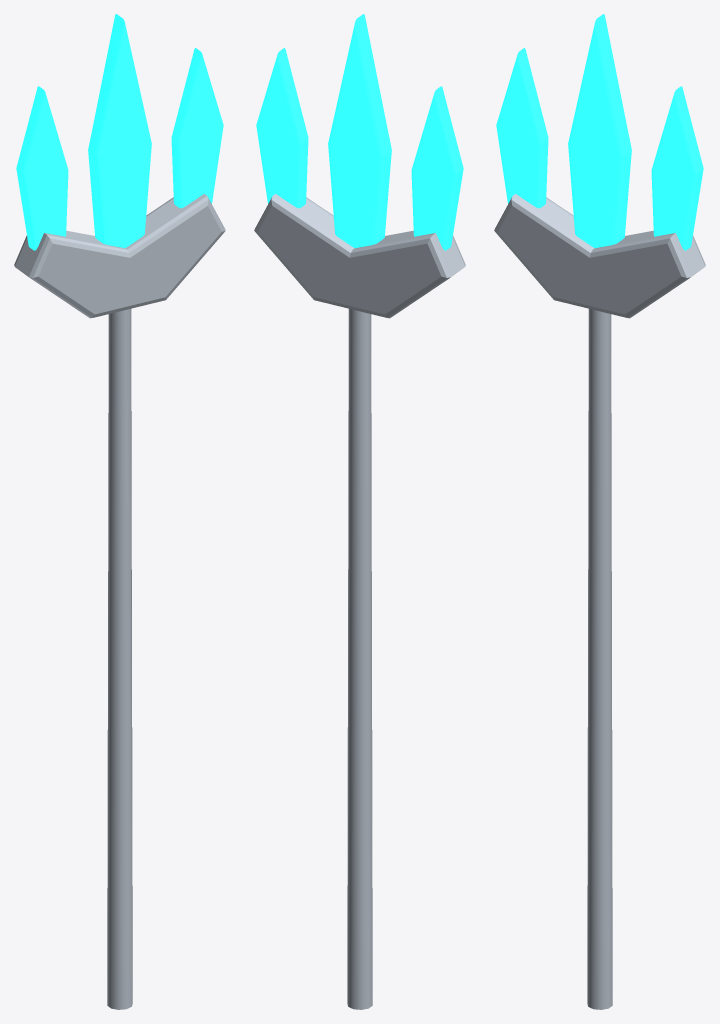
File: weapon_aqua.glb
The picture shows the model from 3 angles, left to right: view 1: azimuth 30°, elevation 25°; view 2: azimuth 150°, elevation 25°; view 3: azimuth 330°, elevation 25°; orthographic projection.
Parts seen in each view (by area): view 1: TridentShaft, TridentCrosshead, CenterProng, RightProng, LeftProng; view 2: TridentShaft, TridentCrosshead, CenterProng, RightProng, LeftProng; view 3: TridentShaft, TridentCrosshead, CenterProng, LeftProng, RightProng.
Part boxes in pixels (<box>): TridentShaft: <box>107,309,132,1009</box>; TridentCrosshead: <box>14,194,225,318</box>; CenterProng: <box>88,14,151,248</box>; RightProng: <box>171,48,223,208</box>; LeftProng: <box>16,86,68,250</box>; TridentShaft: <box>347,309,372,1009</box>; TridentCrosshead: <box>254,194,465,318</box>; CenterProng: <box>328,14,391,248</box>; RightProng: <box>256,48,308,208</box>; LeftProng: <box>411,86,463,250</box>; TridentShaft: <box>587,309,612,1009</box>; TridentCrosshead: <box>494,194,705,318</box>; CenterProng: <box>568,14,631,248</box>; LeftProng: <box>496,48,548,208</box>; RightProng: <box>651,86,703,250</box>.
Bounding box in the file's own units: 0.5712 × 2.68 × 0.1.
